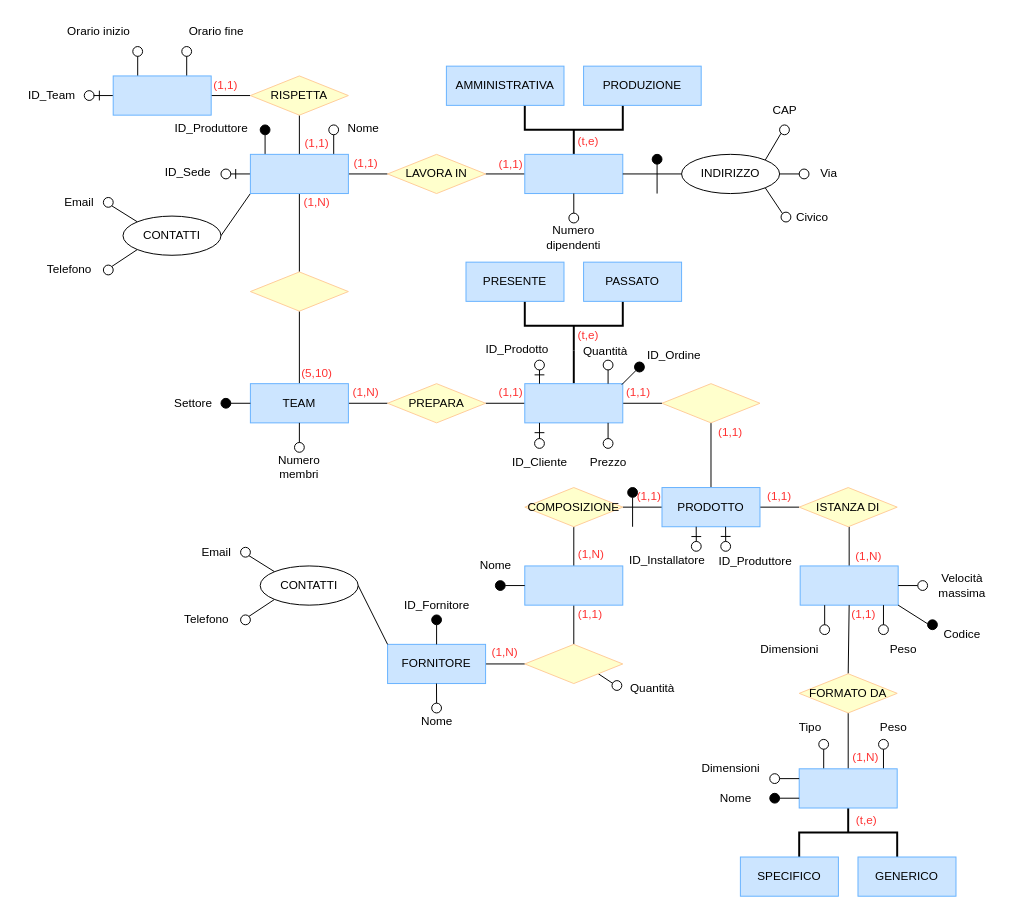
Image size: 1012x913. Some labels were removed from this diagram. Here are the shapes that lost their labels. From the top down, the box of each, then its label:
(112, 75, 211, 115): PROGRAMMA
(249, 153, 348, 194): PRODUTTORE
(524, 153, 623, 194): SEDE
(249, 271, 348, 311): PARTE DI
(524, 383, 623, 423): ORDINE
(661, 383, 760, 423): INCLUDE
(524, 565, 623, 605): MATERIALE
(799, 565, 898, 605): MODELLO
(524, 643, 623, 684): FORNITURA
(798, 768, 897, 808): COMPONENTE
